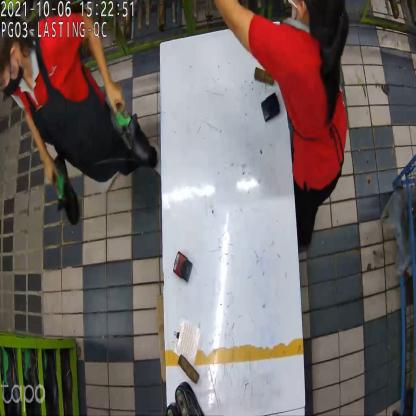stamp: (172, 250, 194, 283), (260, 92, 280, 126)
